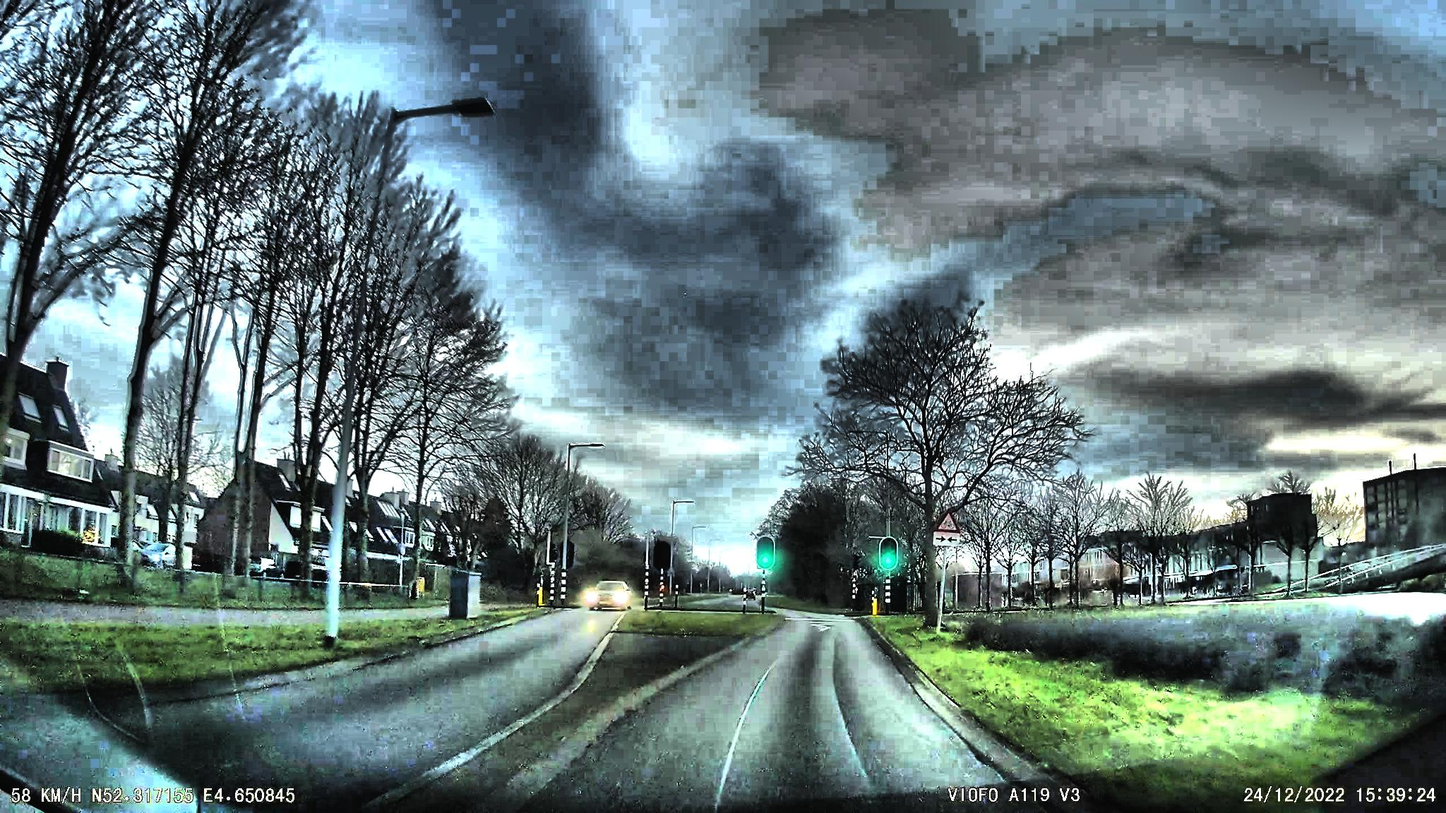Roads: (0, 611, 1112, 813)
